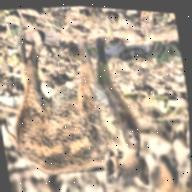boar: (0, 41, 158, 192)
